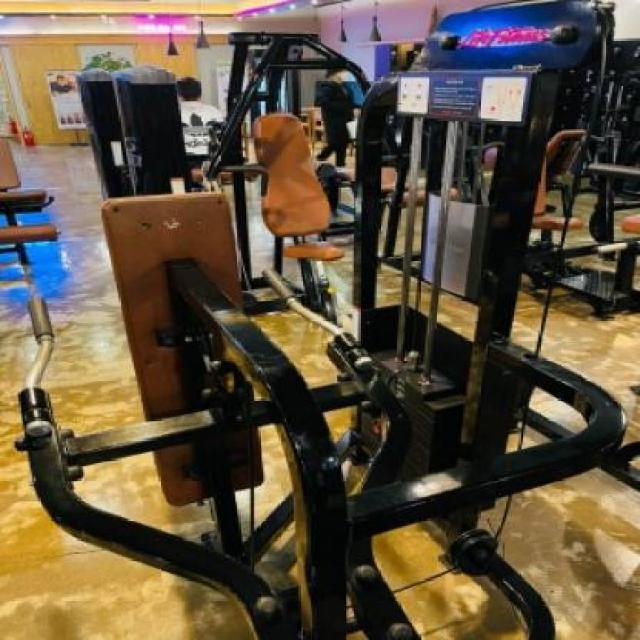seated dip machine: (0, 69, 625, 640)
